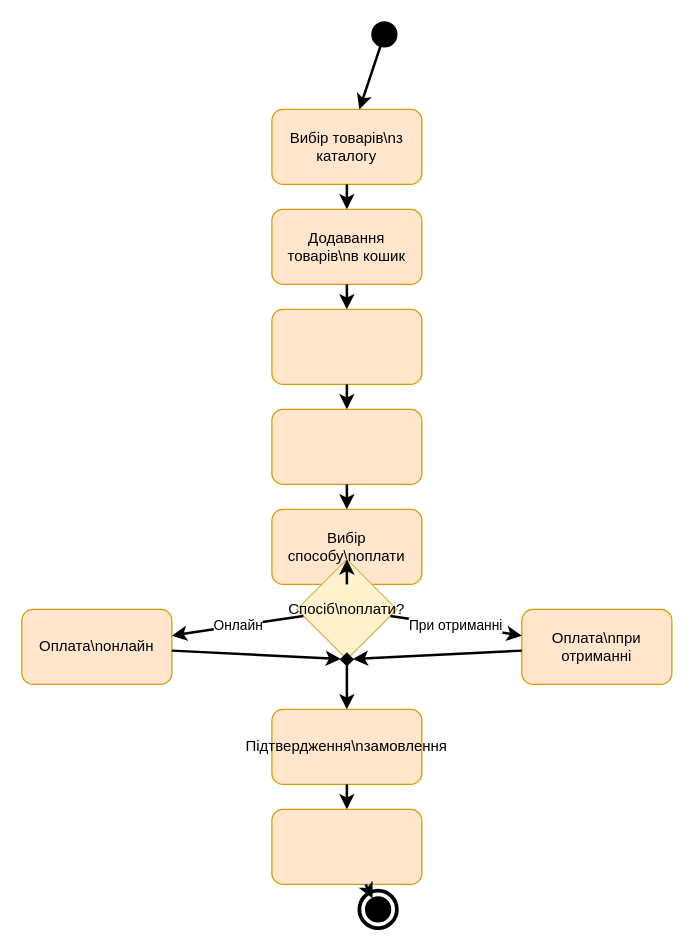
Image size: 694x951. Some labels were removed from this diagram. The shapes that lost their labels are listed below. From the top down, each one's centre as x and y in pixels, then its label:
point 346,346: Перегляд кошику
point 346,446: Заповнення даних\nзамовлення
point 346,846: Відправка\nповідомлення
